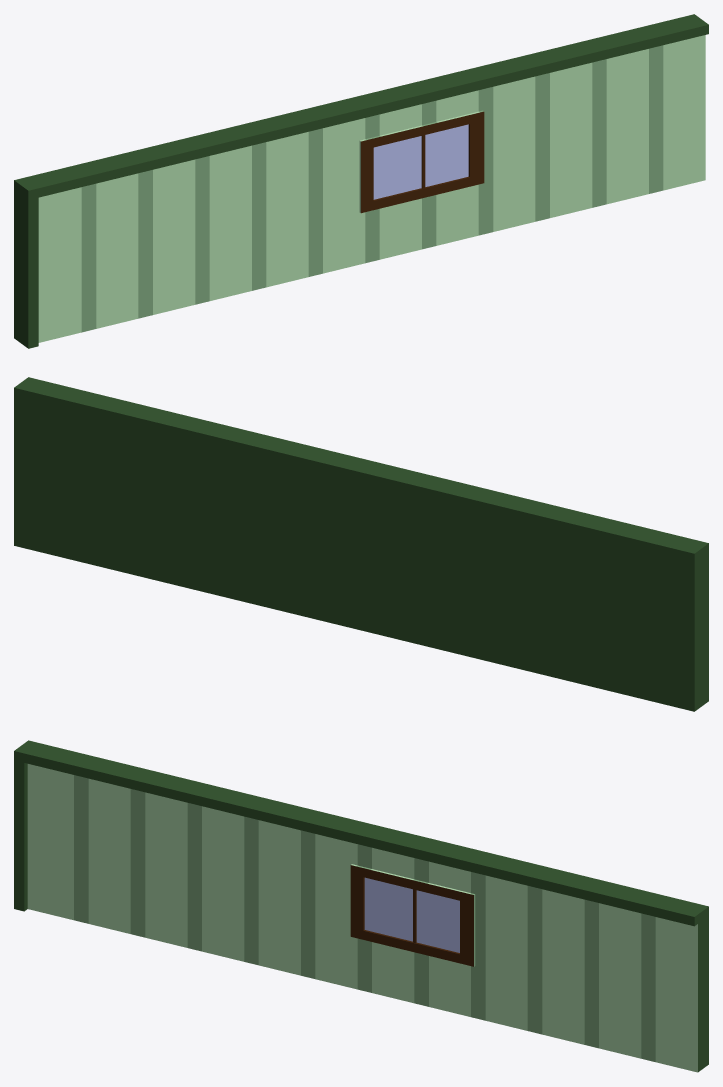
File: LeftWallWindow_House.fbx
The picture shows the model from 3 angles, top to bottom: view 1: azimuth 30°, elevation 25°; view 2: azimuth 150°, elevation 25°; view 3: azimuth 330°, elevation 25°; orthographic projection.
Parts seen in each view (by area): view 1: Left_Wall.001; view 2: Left_Wall.001; view 3: Left_Wall.001.
Part boxes in pixels (bbox=[...]): Left_Wall.001: bbox=[14, 14, 708, 348]; Left_Wall.001: bbox=[14, 377, 708, 711]; Left_Wall.001: bbox=[14, 740, 708, 1072].
Size of the model in its own units: 9.01 by 2 by 0.3315.
